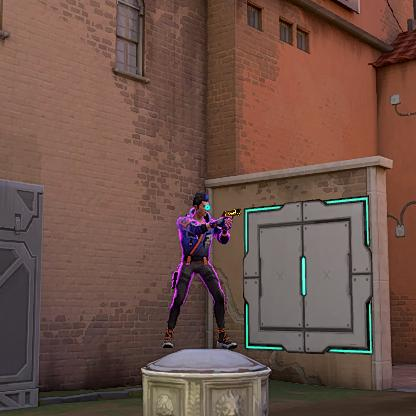enemyBody: (183, 221, 208, 261)
enemyHead: (196, 199, 206, 215)
